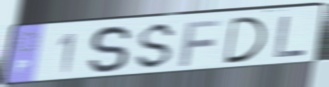1: (57, 31, 77, 75)
D: (222, 15, 269, 66)
F: (178, 18, 226, 68)
L: (272, 14, 308, 60)
S: (87, 24, 134, 77), (132, 21, 179, 72)
